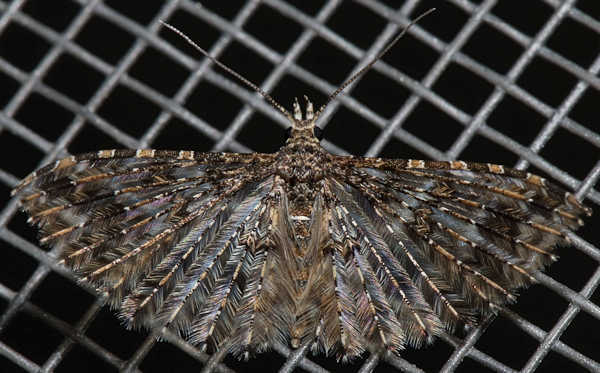Alucitidae: (3, 9, 593, 370)
moth: (1, 7, 591, 368)
